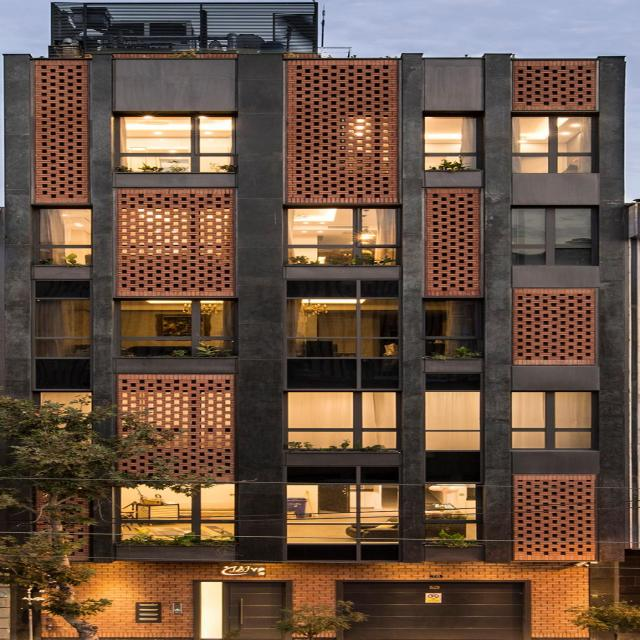door: (349, 582, 534, 639), (199, 582, 293, 640)
railing: (56, 3, 315, 52)
window: (118, 115, 237, 173), (293, 296, 407, 356), (286, 486, 401, 543), (126, 300, 241, 356), (289, 208, 400, 266), (128, 481, 236, 539), (291, 392, 399, 449), (512, 391, 602, 451), (510, 207, 600, 264), (514, 114, 598, 173), (425, 392, 487, 451), (38, 207, 97, 264), (40, 299, 99, 356), (426, 116, 482, 171), (431, 300, 480, 357), (433, 483, 483, 537), (48, 392, 97, 413)
